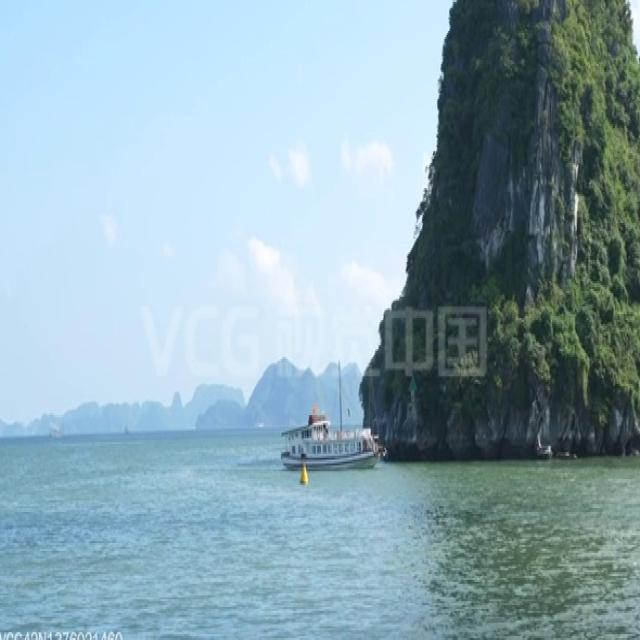passenger ship: (280, 402, 384, 466)
